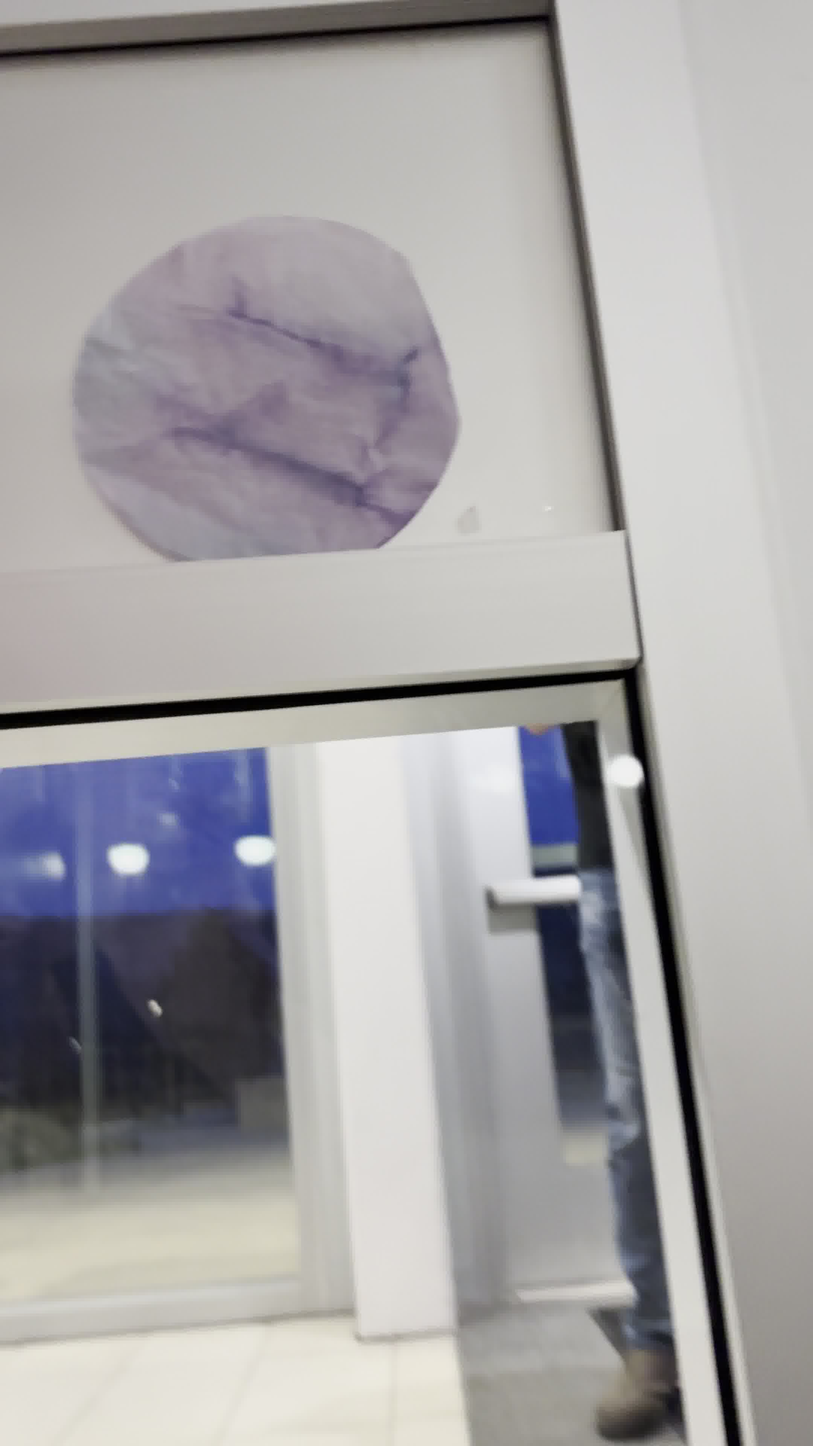Target: (54, 203, 466, 573)
